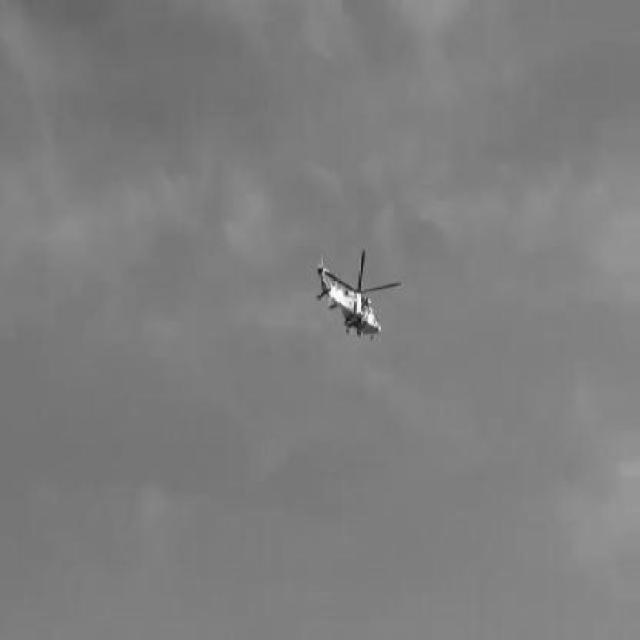helikopter: (306, 239, 408, 352)
